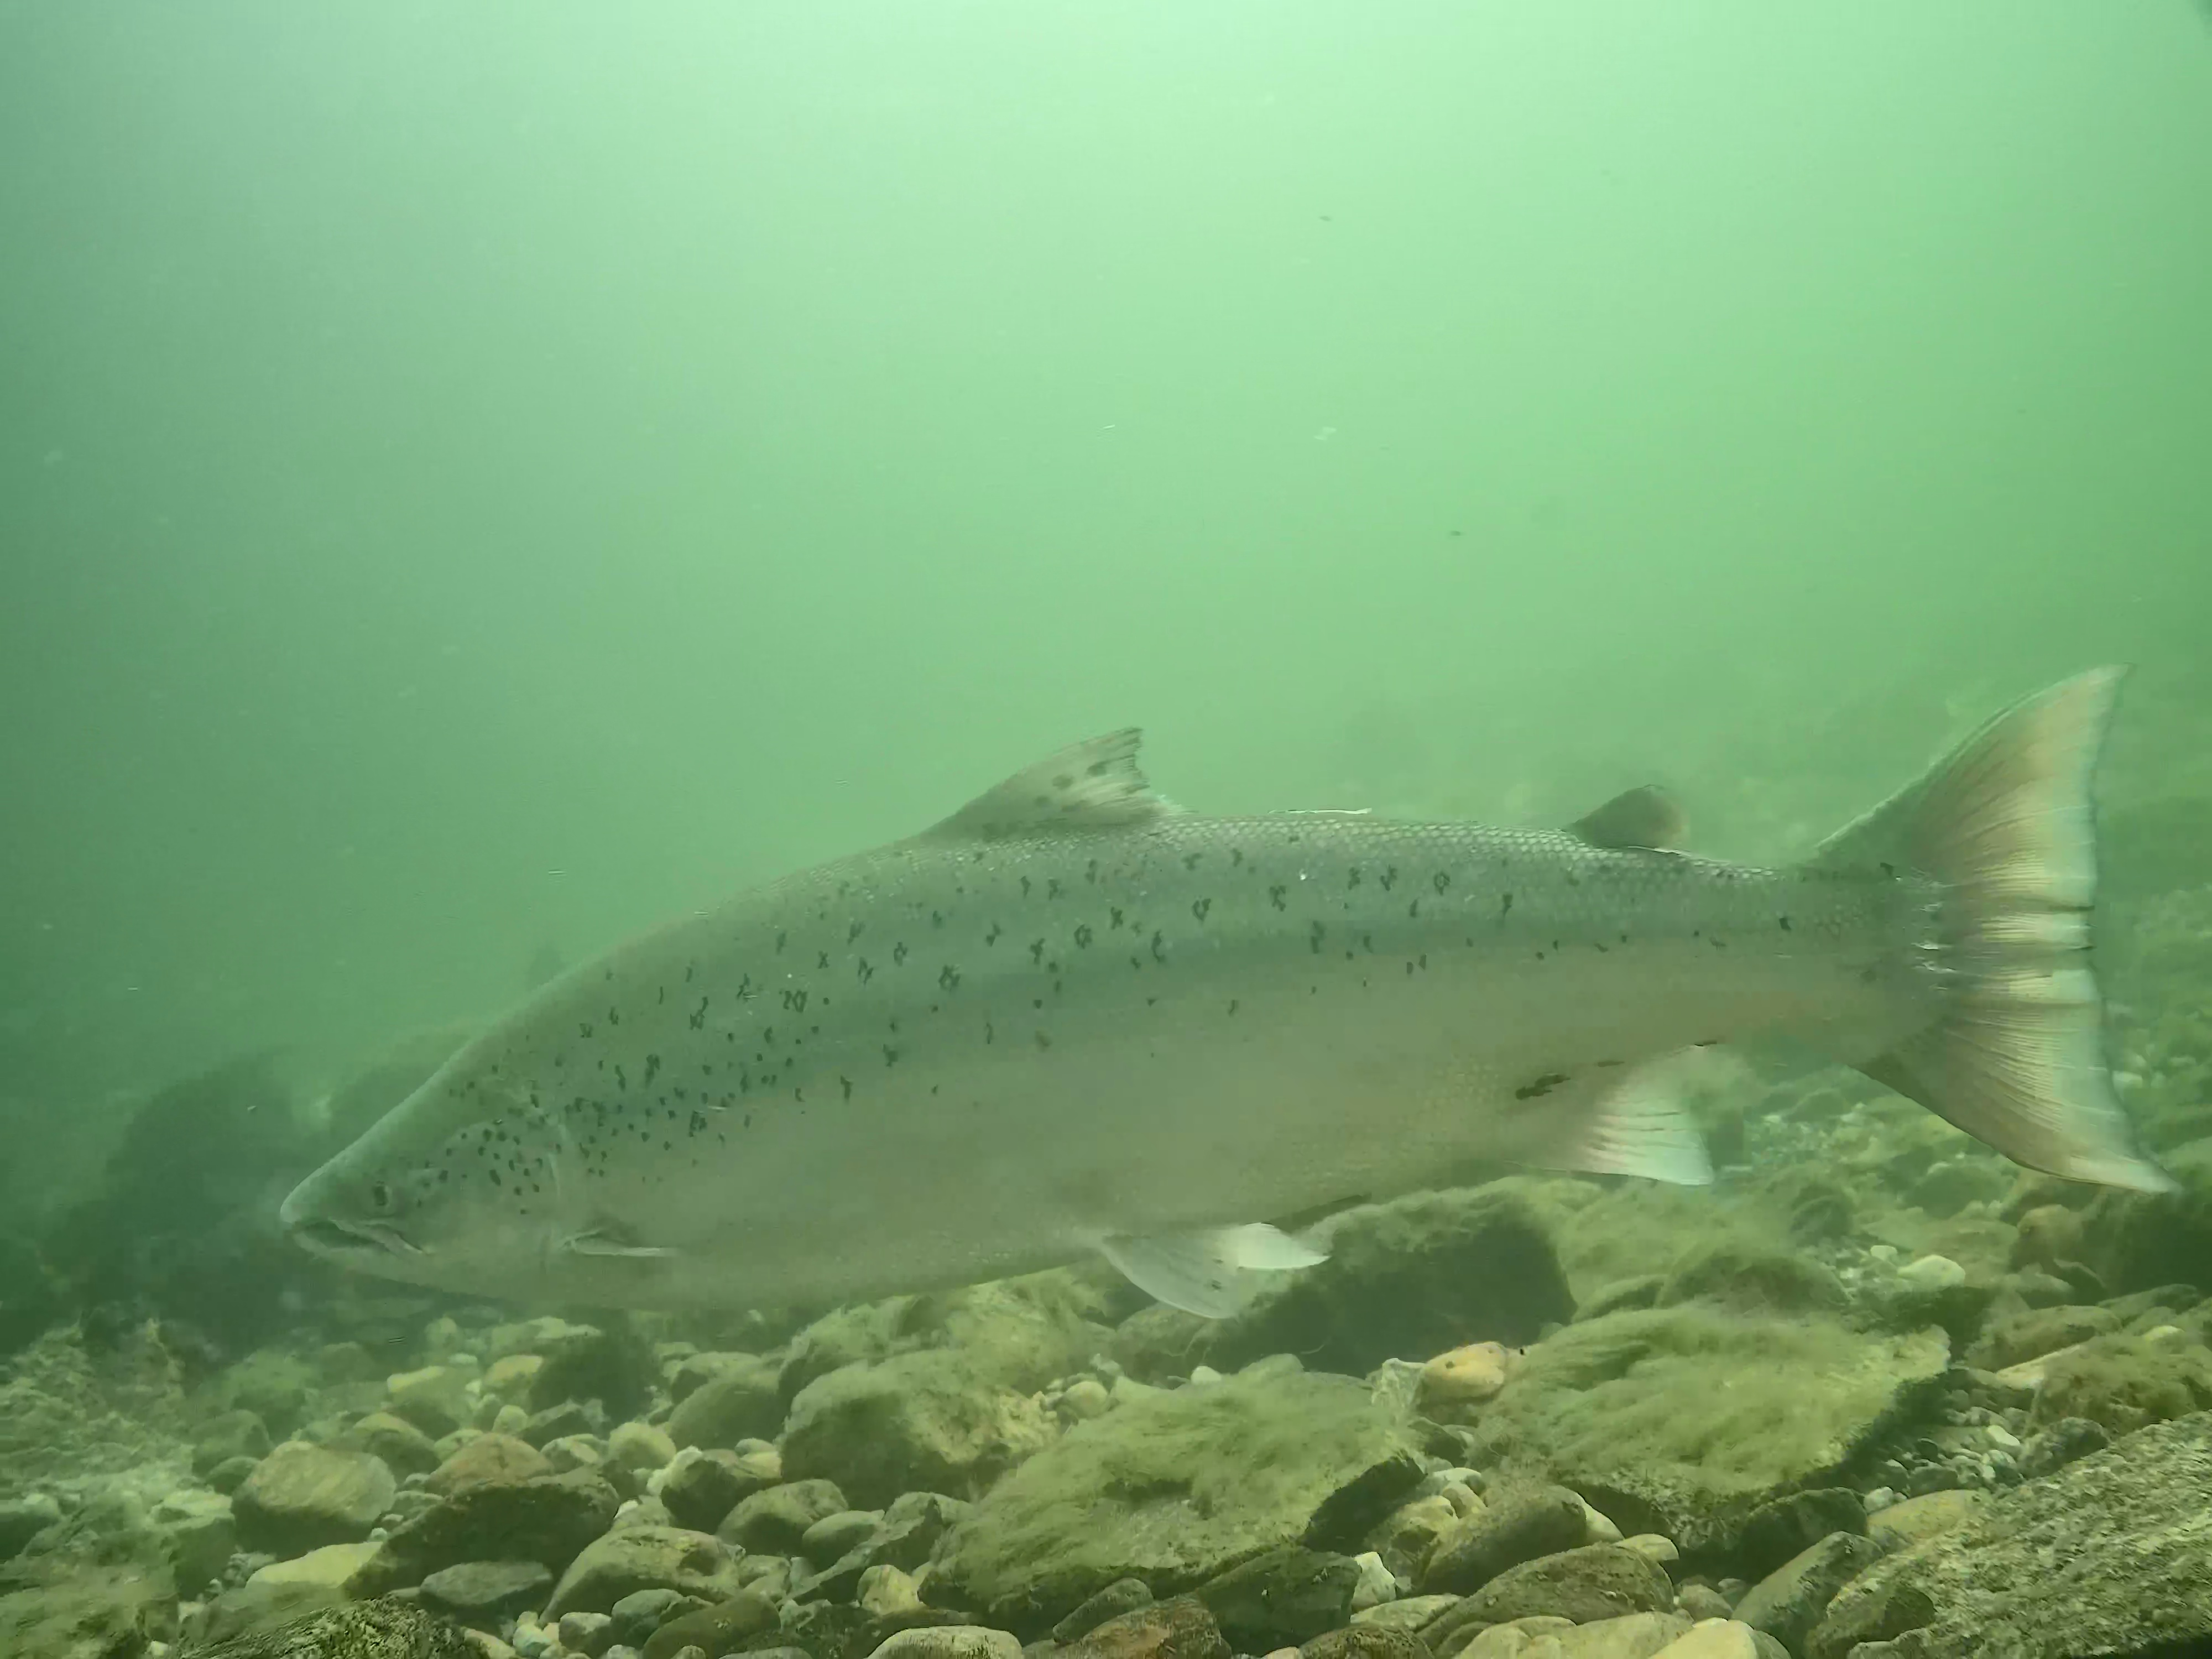salmon: (273, 655, 2184, 1328)
